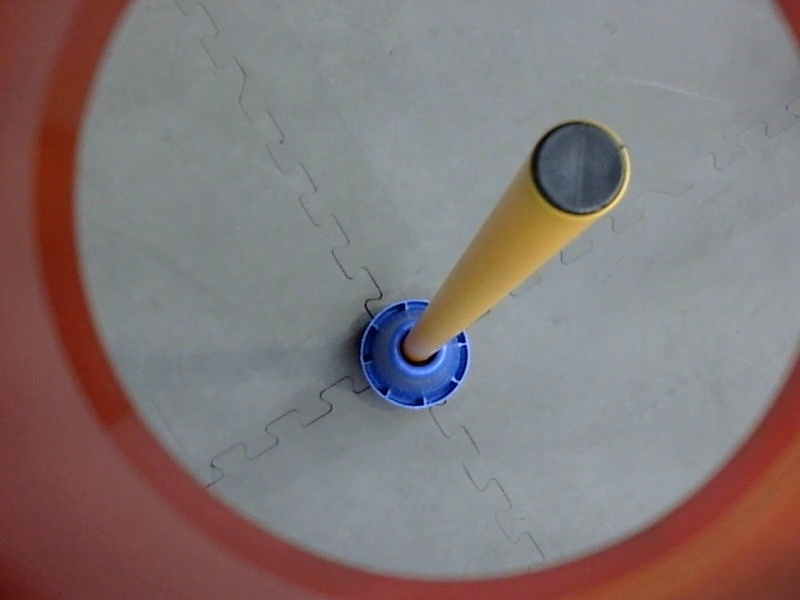tip: (524, 113, 636, 224)
